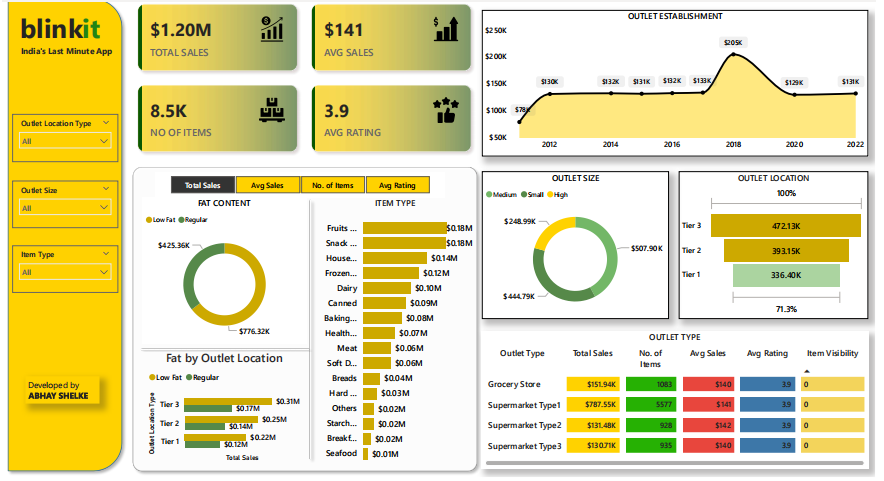

The dashboard page shown, as its layout file describes it:
{"tool":"powerbi","page":{"name":"Page 1","canvas":[1400,800],"ordinal":0},"visuals":[{"type":"shape","box":[0,24.1,200.2,775.3],"z":0},{"type":"textbox","box":[23.4,43.8,159.1,70.1],"z":1000},{"type":"textbox","box":[24.1,100.9,159.6,82.8],"z":2000},{"type":"cardVisual","fields":{"Data":["BlinkIT Grocery Data.Total Sales","BlinkIT Grocery Data.Avg Sales","BlinkIT Grocery Data.No. of Items","BlinkIT Grocery Data.Avg Rating"]},"box":[200.3,23.9,569.6,270.1],"z":3000},{"type":"shape","box":[200.3,294,569.6,505.2],"z":4000},{"type":"donutChart","title":"OUTLET SIZE","fields":{"Y":["BlinkIT Grocery Data.Total Sales"],"Category":["BlinkIT Grocery Data.Outlet Size"]},"box":[769.2,308.6,299.6,237.8],"z":5000},{"type":"slicer","fields":{"Values":["Metrics.Metrics"]},"box":[244.4,310.5,464.8,40.4],"z":6000},{"type":"cardVisual","fields":{"Data":["BlinkIT Grocery Data.Total Sales"]},"box":[304.1,453.1,105.4,61.7],"z":7000},{"type":"clusteredBarChart","title":"Fat by Outlet Location ","fields":{"Y":["BlinkIT Grocery Data.Total Sales"],"Category":["BlinkIT Grocery Data.Outlet Location Type"],"Series":["BlinkIT Grocery Data.Item Fat Content"]},"box":[228.8,594.6,254.4,185.2],"z":8000},{"type":"shape","box":[475.9,347.2,34.9,431.8],"z":9000},{"type":"barChart","title":"ITEM TYPE","fields":{"Y":["BlinkIT Grocery Data.Total Sales"],"Category":["BlinkIT Grocery Data.Item Type"]},"box":[499.8,350.8,260.4,436.6],"z":10000},{"type":"lineChart","title":"OUTLET ESTABLISHMENT","fields":{"Y":["BlinkIT Grocery Data.Total Sales"],"Category":["BlinkIT Grocery Data.Outlet Establishment Year"]},"box":[769.2,49.7,620.2,234.8],"z":11000},{"type":"shape","box":[213.8,585.6,286,12],"z":12000},{"type":"donutChart","title":"FAT CONTENT","fields":{"Y":["BlinkIT Grocery Data.Total Sales"],"Category":["BlinkIT Grocery Data.Item Fat Content"]},"box":[224.3,350.8,263.4,234.8],"z":13000},{"type":"funnel","title":"OUTLET LOCATION","fields":{"Category":["BlinkIT Grocery Data.Outlet Location Type"],"Y":["Sum(BlinkIT Grocery Data.Sales)"]},"box":[1085.4,308.6,304.1,237.8],"z":14000},{"type":"pivotTable","title":"OUTLET TYPE","fields":{"Values":["BlinkIT Grocery Data.Total Sales","BlinkIT Grocery Data.No. of Items","BlinkIT Grocery Data.Avg Sales","BlinkIT Grocery Data.Avg Rating","Min(BlinkIT Grocery Data.Item Visibility)"],"Rows":["BlinkIT Grocery Data.Outlet Type"]},"box":[769.2,566,620.2,221.3],"z":15000},{"type":"slicer","fields":{"Values":["BlinkIT Grocery Data.Item Type"]},"box":[15.1,427.5,170.1,76.8],"z":16000},{"type":"slicer","fields":{"Values":["BlinkIT Grocery Data.Outlet Location Type"]},"box":[15.1,216.8,170.1,76.8],"z":17000},{"type":"slicer","fields":{"Values":["BlinkIT Grocery Data.Outlet Size"]},"box":[15.1,323.7,170.1,76.8],"z":18000},{"type":"textbox","box":[36.1,638.3,118.9,43.7],"z":19000}]}

Visuals, with their boxes on the page's 1400x800 design canvas (x1, y1, x2, y2). These are canvas units, not pixel positions in the 884x481 screenshot, which may show the page scaled, cropped or inside an application window:
shape: (x1=0, y1=24, x2=200, y2=799)
textbox: (x1=23, y1=44, x2=182, y2=114)
textbox: (x1=24, y1=101, x2=184, y2=184)
cardVisual - BlinkIT Grocery Data.Total Sales x BlinkIT Grocery Data.Avg Sales: (x1=200, y1=24, x2=770, y2=294)
shape: (x1=200, y1=294, x2=770, y2=799)
"OUTLET SIZE" donutChart: (x1=769, y1=309, x2=1069, y2=546)
slicer - Metrics.Metrics: (x1=244, y1=310, x2=709, y2=351)
cardVisual - BlinkIT Grocery Data.Total Sales: (x1=304, y1=453, x2=410, y2=515)
"Fat by Outlet Location " clusteredBarChart: (x1=229, y1=595, x2=483, y2=780)
shape: (x1=476, y1=347, x2=511, y2=779)
"ITEM TYPE" barChart: (x1=500, y1=351, x2=760, y2=787)
"OUTLET ESTABLISHMENT" lineChart: (x1=769, y1=50, x2=1389, y2=284)
shape: (x1=214, y1=586, x2=500, y2=598)
"FAT CONTENT" donutChart: (x1=224, y1=351, x2=488, y2=586)
"OUTLET LOCATION" funnel: (x1=1085, y1=309, x2=1390, y2=546)
"OUTLET TYPE" pivotTable: (x1=769, y1=566, x2=1389, y2=787)
slicer - BlinkIT Grocery Data.Item Type: (x1=15, y1=428, x2=185, y2=504)
slicer - BlinkIT Grocery Data.Outlet Location Type: (x1=15, y1=217, x2=185, y2=294)
slicer - BlinkIT Grocery Data.Outlet Size: (x1=15, y1=324, x2=185, y2=400)
textbox: (x1=36, y1=638, x2=155, y2=682)
